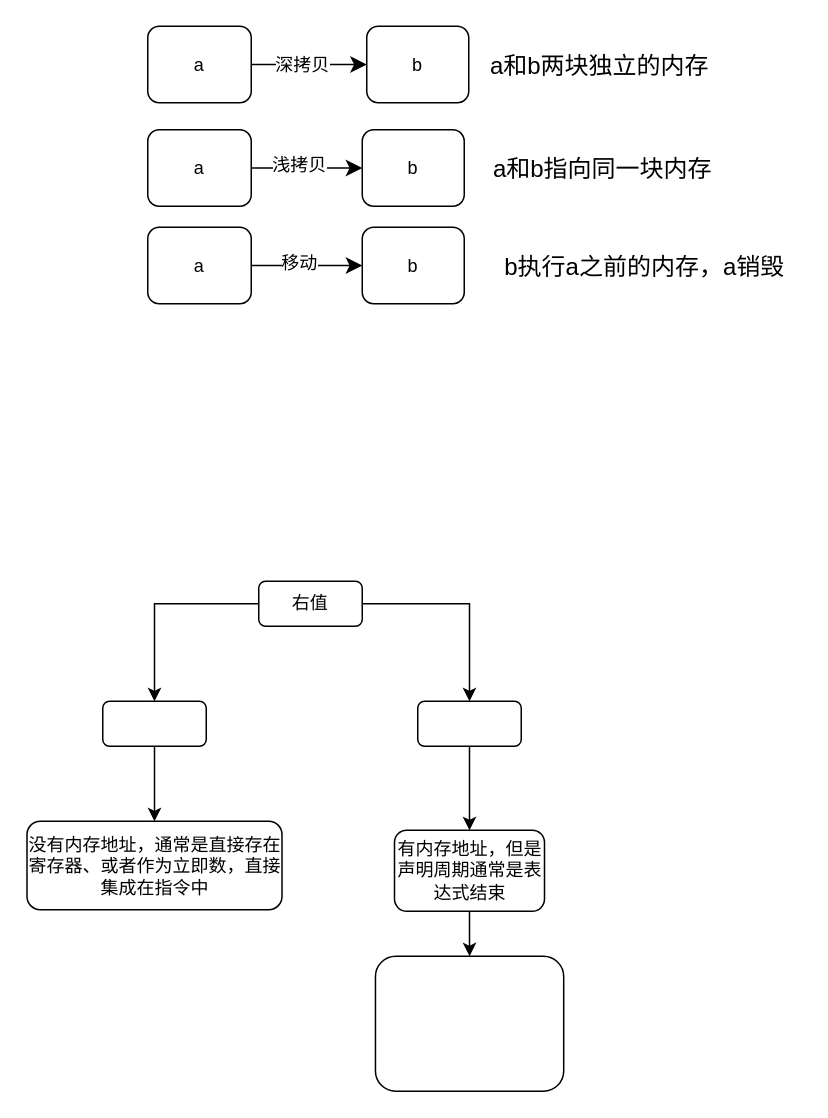
Image size: 828x1118. Some labels were removed from this diagram. The centre of each missing label's shape, as x and y in pixels:
将亡值: point (468, 723)
将亡值被绑定到右值引用变量后，生命周期被延长到和右值引用变量相同（作用域范围内存在）: point (469, 1023)
纯右值: point (153, 723)
